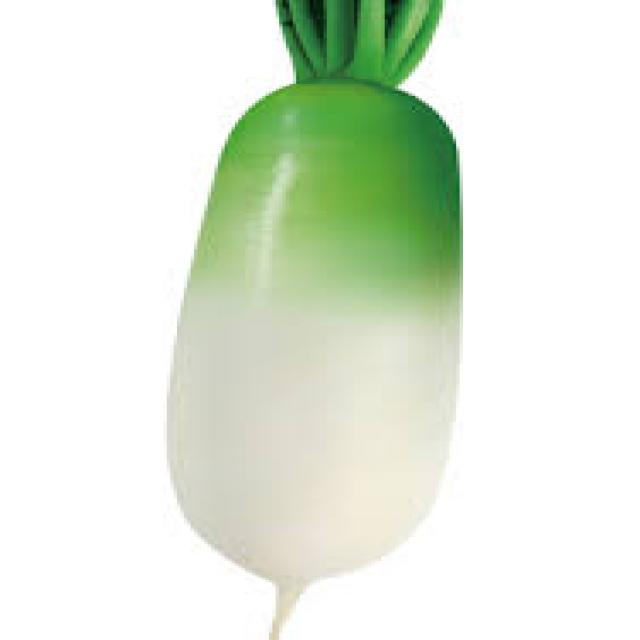raddish: (174, 79, 456, 639)
